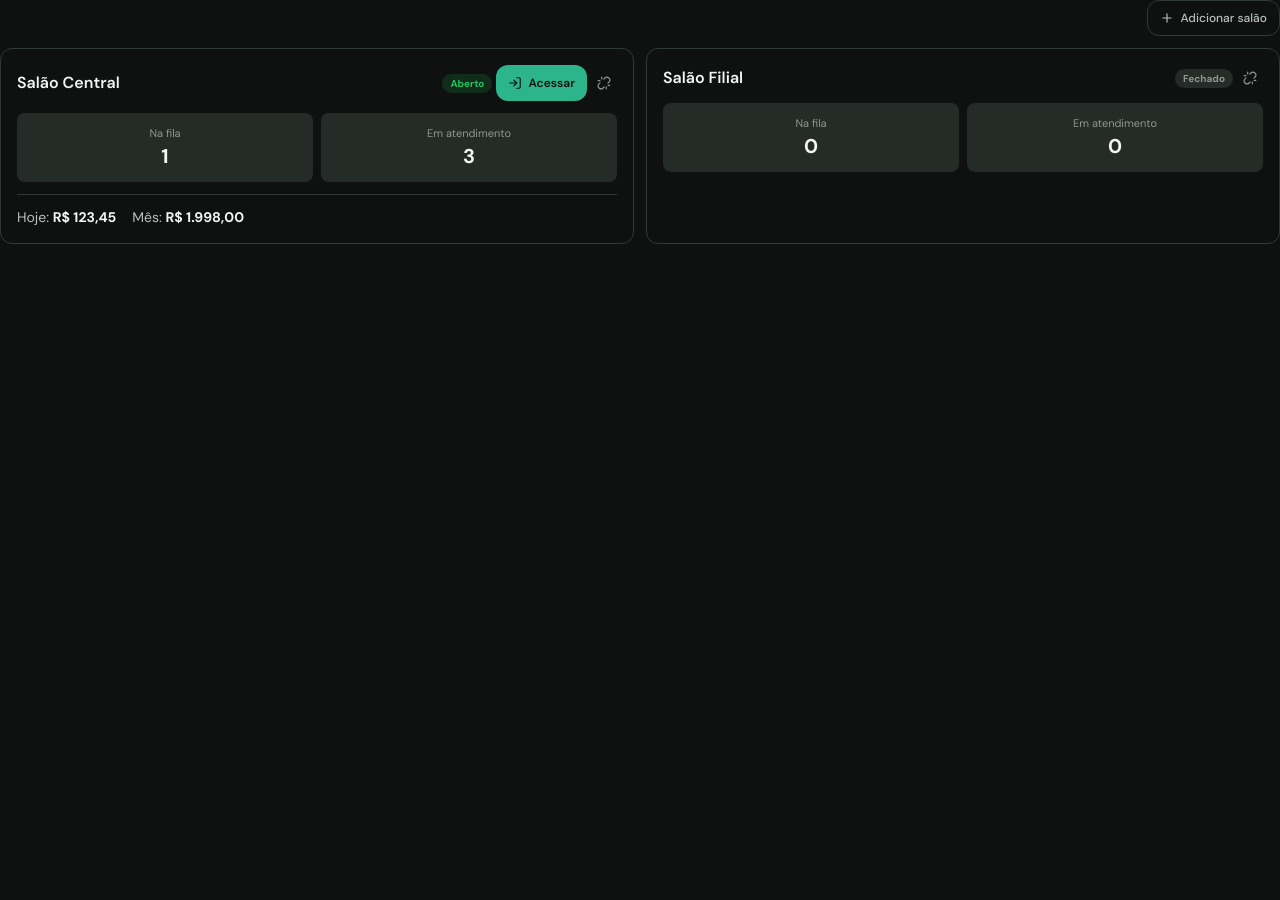
Test: MultiUnitDashboard › desanexar: erro do backend aparece como alerta amigável
Click the button named "Desanexar Salão Filial" at (1250, 78), box [1237,65,1263,91]
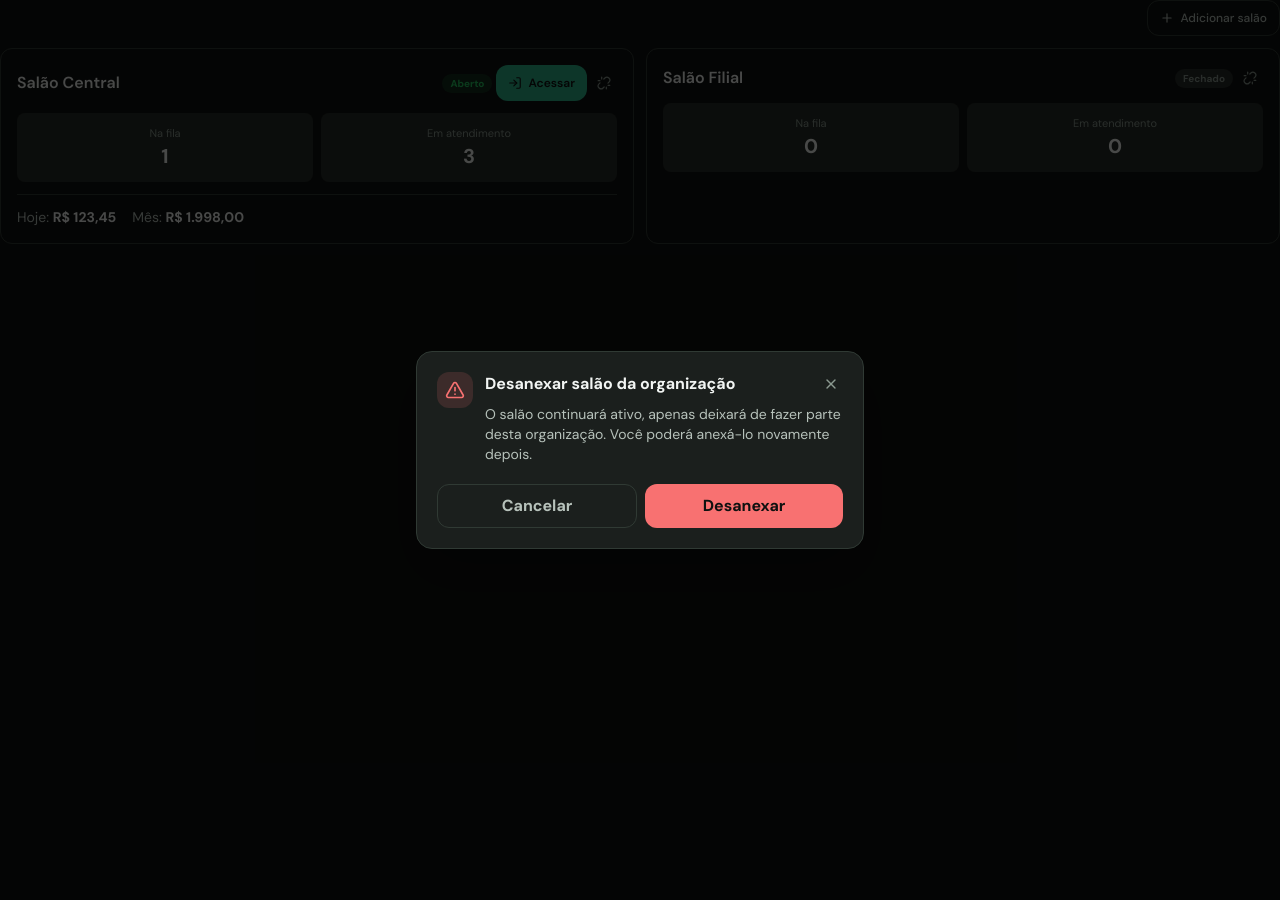
Click the button "Desanexar" at (744, 506), box [645,484,843,528]
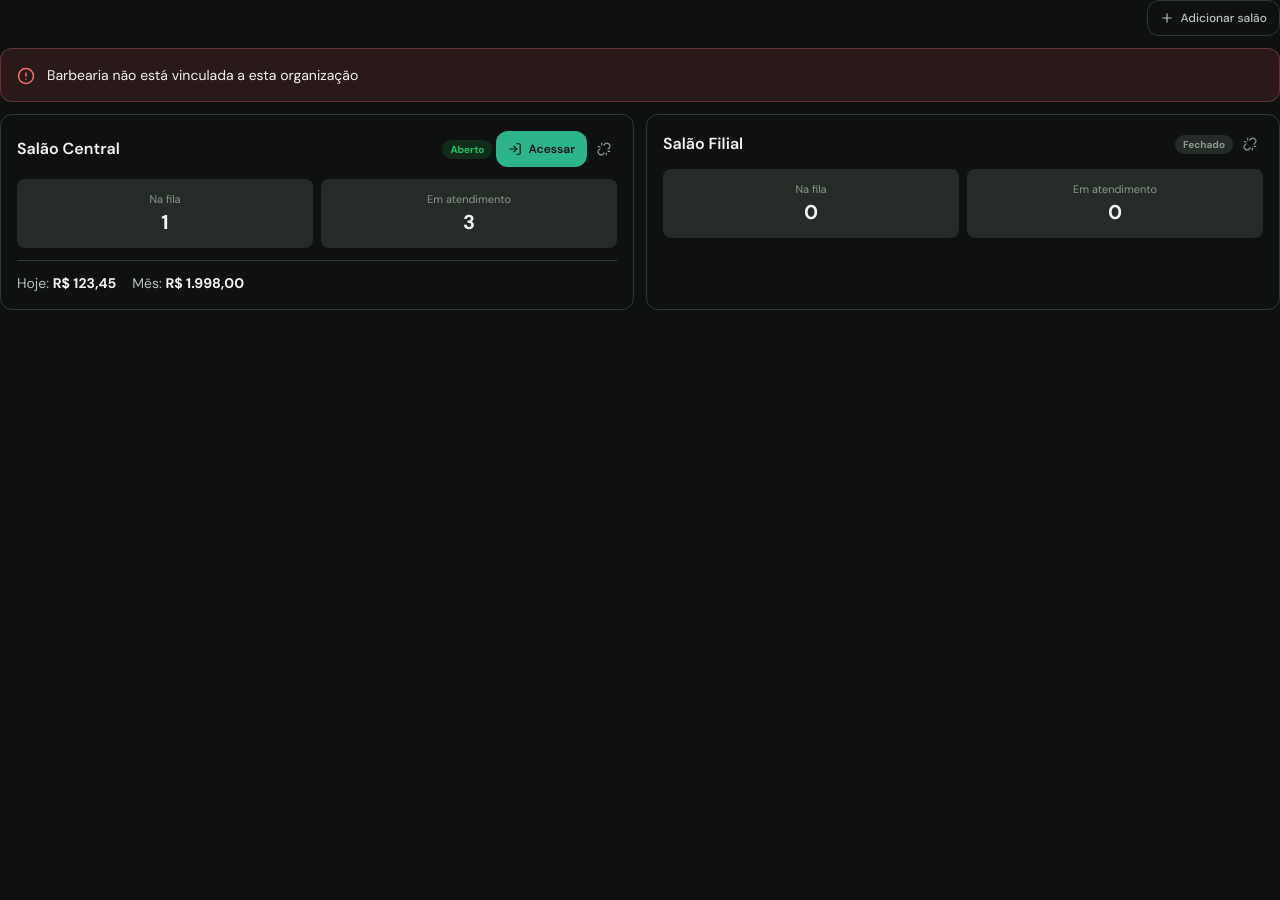
Check: the message reads "Barbearia não está vinculada a esta organização", box [47,66,358,84]
